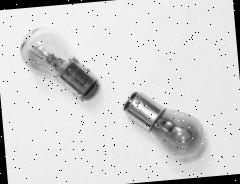lightbulb: (120, 86, 206, 166), (18, 22, 99, 105)
